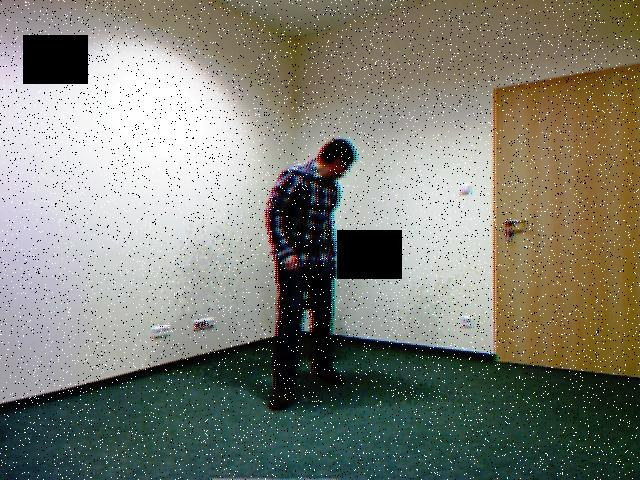walking: (260, 114, 355, 417)
